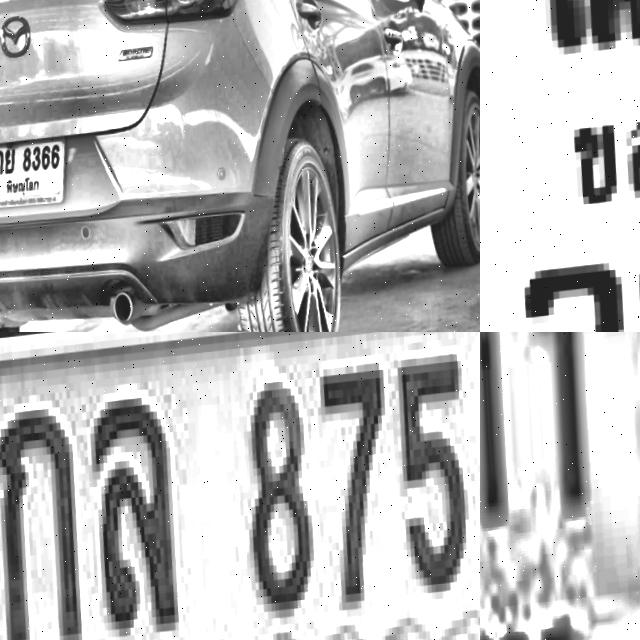license-plate: (0, 332, 480, 640), (480, 0, 640, 332), (480, 332, 640, 640), (0, 134, 73, 213)
